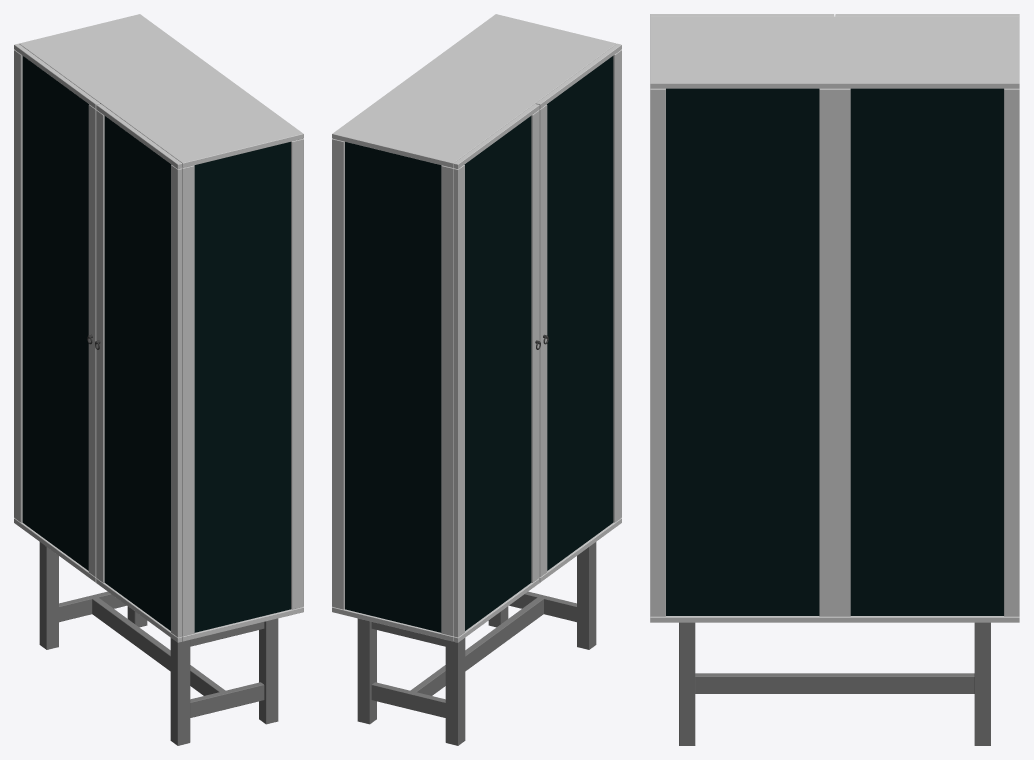
File: IKEA_CABINET.FBX
3 renders of one model, left to right at view 1: azimuth 30°, elevation 25°; view 2: azimuth 150°, elevation 25°; view 3: azimuth 270°, elevation 25°, orthographic. The views are drawn at different scales.
Visible parts, largest first — view 1: Object049, Object048, Shape083; view 2: Object049, Object048, Shape083; view 3: Object049, Object048, Shape083.
Boxes of the visible parts, x1=… form: Object049: x1=22, y1=56, x2=290, y2=632; Object048: x1=14, y1=14, x2=303, y2=642; Shape083: x1=39, y1=542, x2=278, y2=745; Object049: x1=345, y1=56, x2=613, y2=632; Object048: x1=332, y1=14, x2=621, y2=642; Shape083: x1=357, y1=542, x2=596, y2=745; Object049: x1=666, y1=88, x2=1003, y2=615; Object048: x1=650, y1=14, x2=1019, y2=622; Shape083: x1=679, y1=622, x2=990, y2=745.
Bounding box in the file's own units: 41.29 × 180 × 90.
